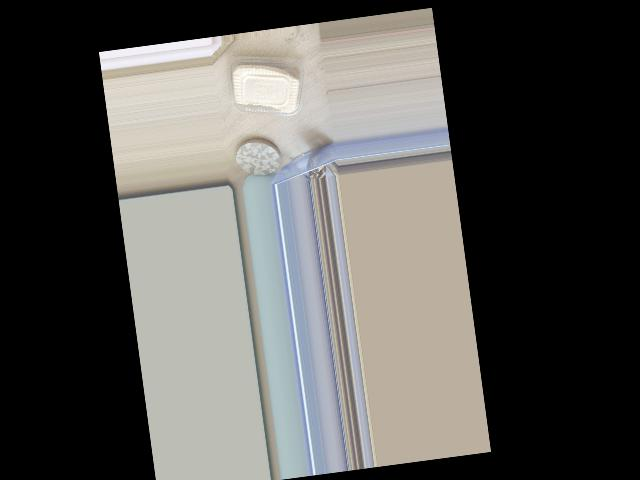cheese: (213, 32, 303, 129)
